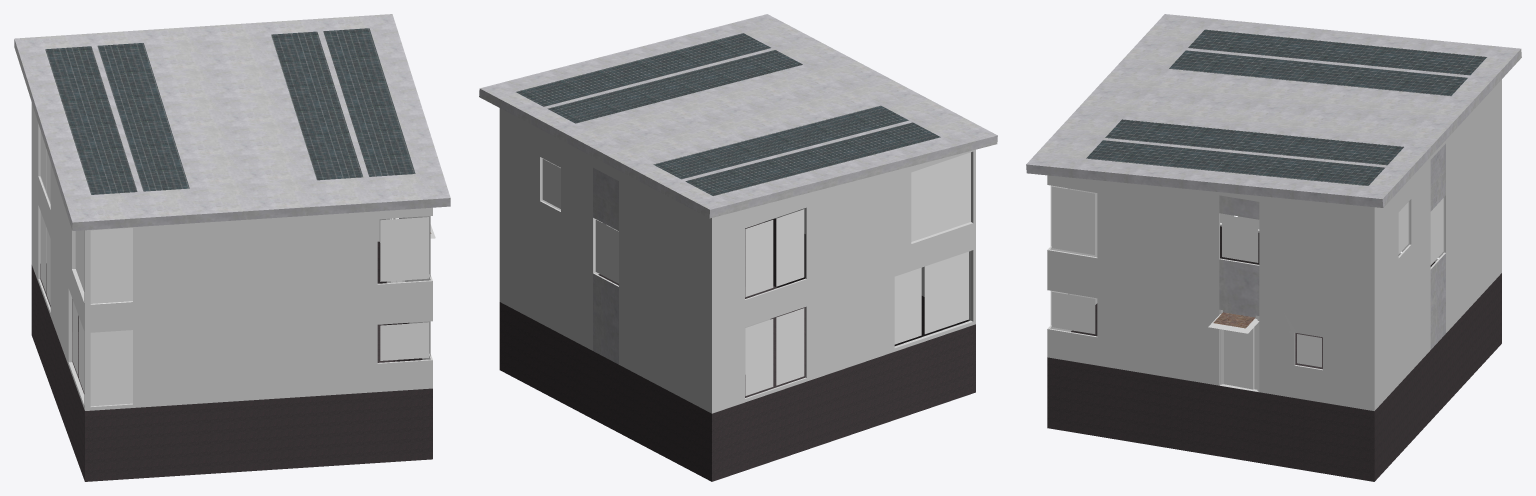
3 renders of one model, left to right at view 1: azimuth 30°, elevation 25°; view 2: azimuth 150°, elevation 25°; view 3: azimuth 270°, elevation 25°, orthographic. The views are drawn at different scales.
Parts seen in each view (by area): view 1: Mesh 67, Mesh 58, Mesh 32, Mesh 75, Mesh 50; view 2: Mesh 67, Mesh 58, Mesh 32, Mesh 75, Mesh 50; view 3: Mesh 67, Mesh 58, Mesh 32, Mesh 75, Mesh 50, CTRL_Hole.
Part boxes in pixels (left/top/right/bottom): Mesh 67: left=31, top=103, right=435, bottom=410; Mesh 58: left=14, top=14, right=450, bottom=230; Mesh 32: left=31, top=241, right=432, bottom=481; Mesh 75: left=45, top=28, right=415, bottom=194; Mesh 50: left=40, top=131, right=430, bottom=406; Mesh 67: left=499, top=108, right=975, bottom=413; Mesh 58: left=479, top=14, right=997, bottom=364; Mesh 32: left=499, top=218, right=975, bottom=481; Mesh 75: left=516, top=33, right=940, bottom=195; Mesh 50: left=542, top=152, right=970, bottom=395; Mesh 67: left=1047, top=79, right=1501, bottom=410; Mesh 58: left=1026, top=14, right=1521, bottom=349; Mesh 32: left=1047, top=226, right=1501, bottom=481; Mesh 75: left=1086, top=29, right=1486, bottom=185; Mesh 50: left=1050, top=185, right=1444, bottom=367; CTRL_Hole: left=1223, top=327, right=1254, bottom=389.
Bounding box in the file's own units: 12.68 × 8.79 × 12.7.
Materials: 10 (5 with a texture image).
